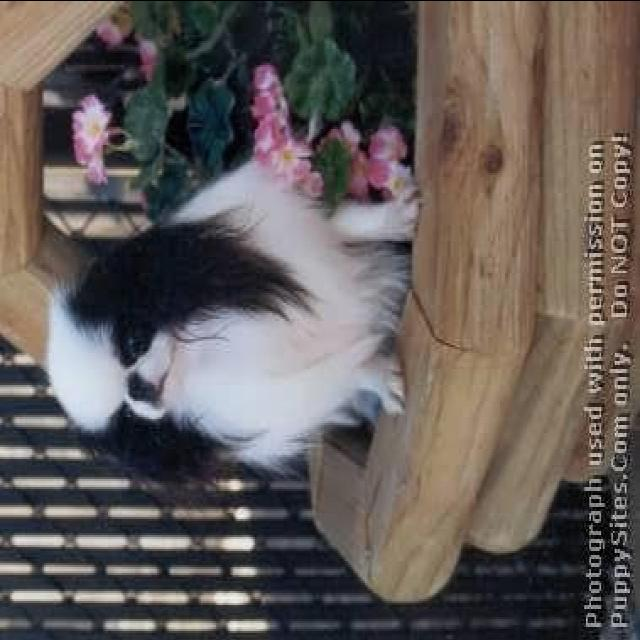husky: (41, 130, 430, 494)
